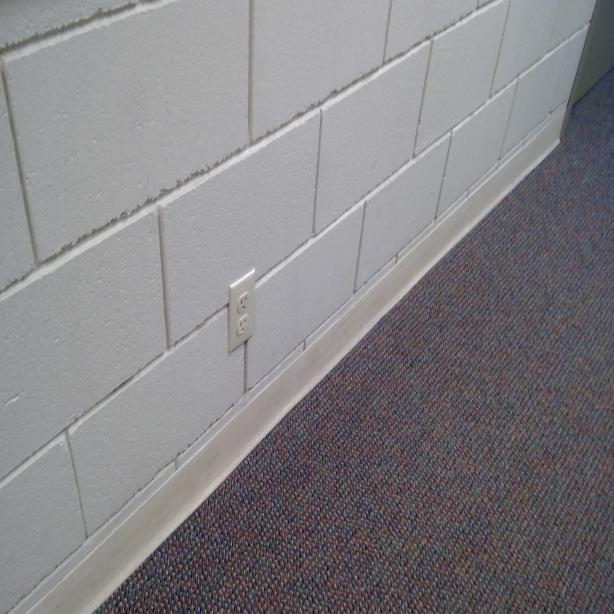typeb: (238, 292, 249, 312), (238, 318, 250, 334)
